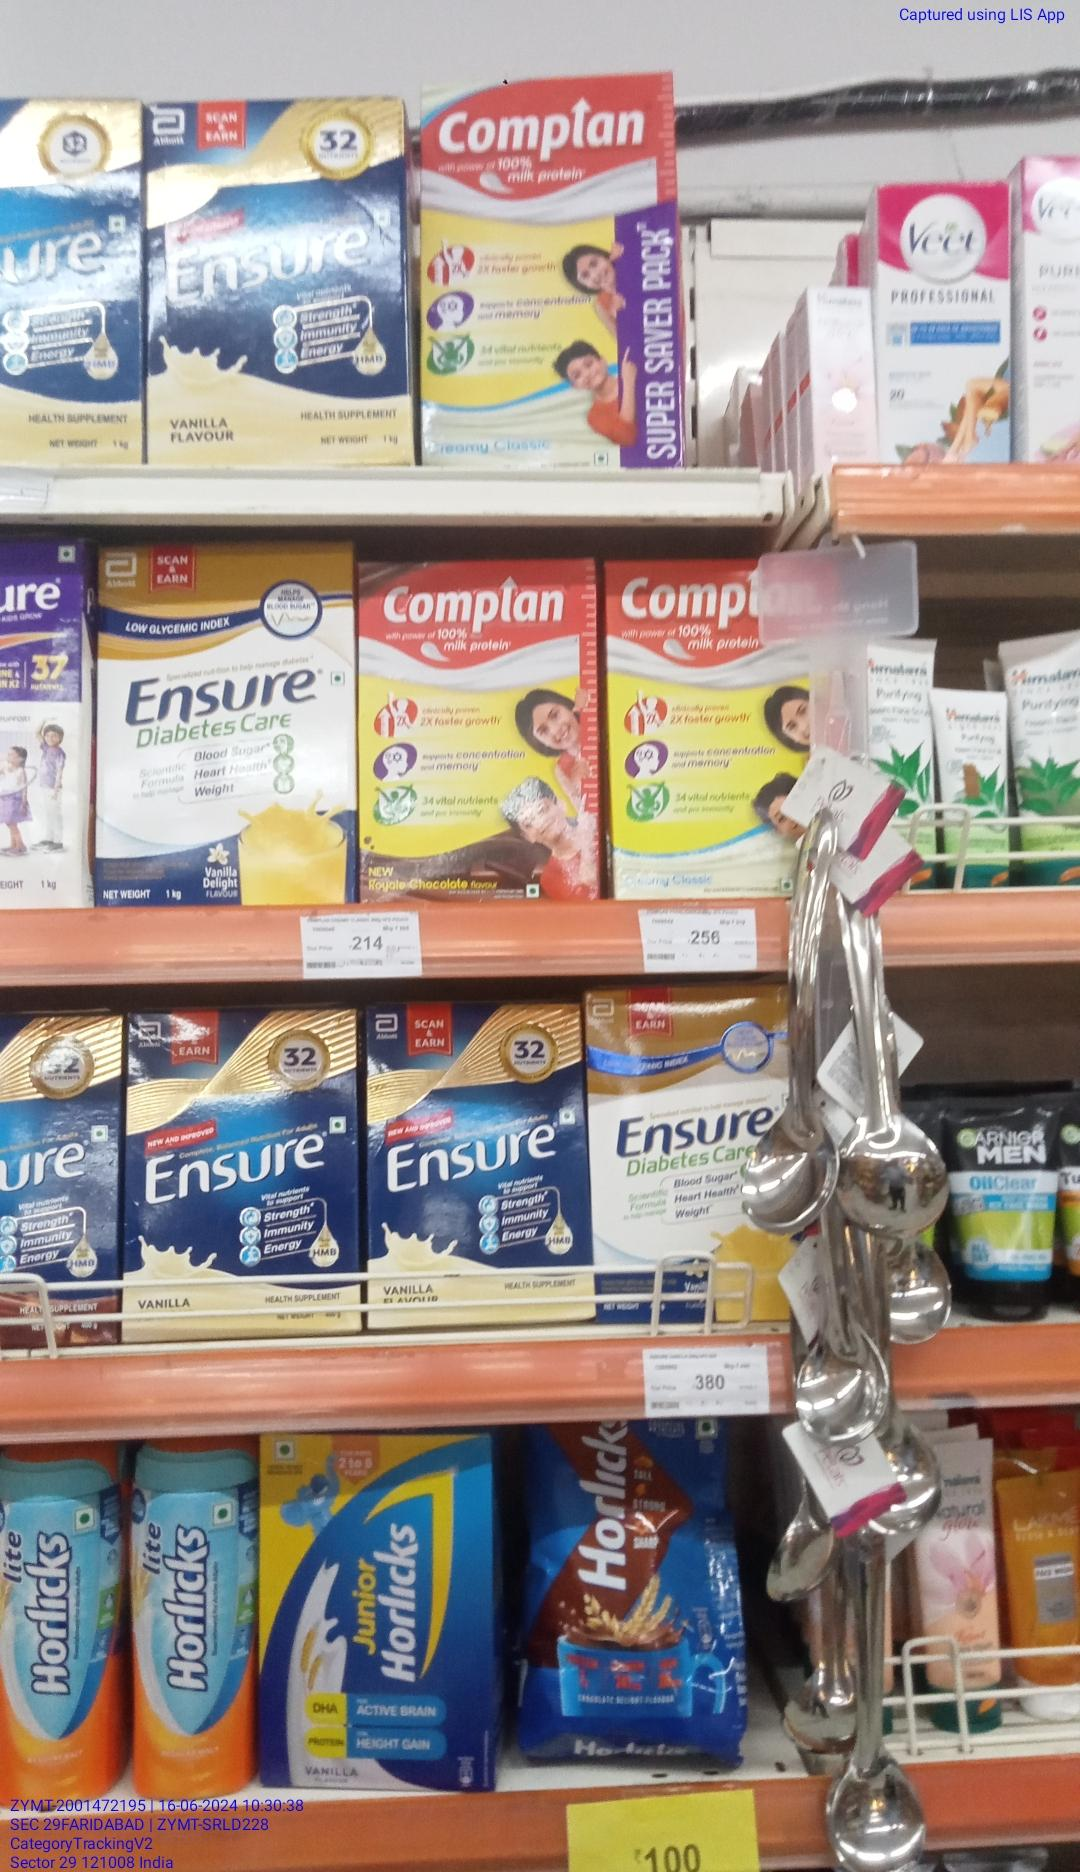COMPLAN_CREAMY_CLASSIC_500_G_PACK: (606, 562, 783, 901)
ENSURE_VANILLA_400_G_PACK: (149, 99, 402, 462), (127, 1020, 360, 1331), (370, 1000, 581, 1319)
HORLICKS_LITE_REGULAR_MALT_500_GM_JAR: (1, 1444, 123, 1814), (130, 1444, 253, 1797)
HORLICK_CHOCOLATE_750_G_POUCH: (513, 1427, 739, 1763)
